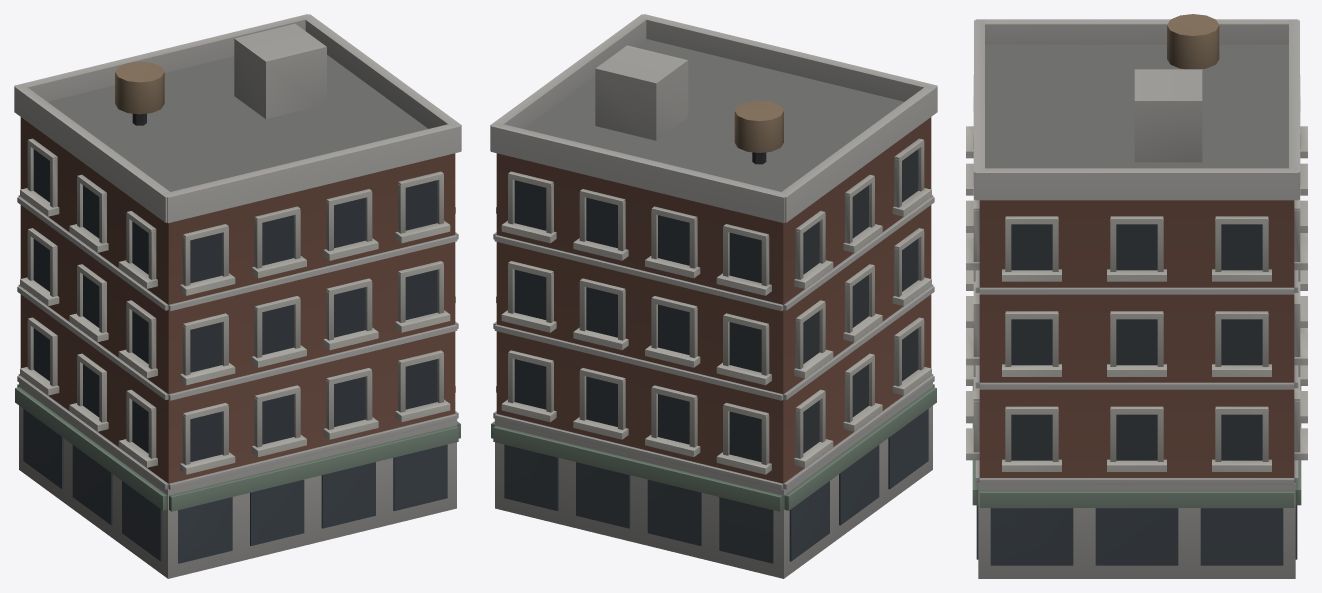
Rendered from house_modern_3.glb.
3 views of the same model, side by side, from view 1: azimuth 30°, elevation 25°; view 2: azimuth 150°, elevation 25°; view 3: azimuth 270°, elevation 25° (orthographic). The views are drawn at different scales.
Visible parts, largest first — view 1: Body_Detail; view 2: Body_Detail; view 3: Body_Detail.
Boxes of the visible parts, x1,y1,x2,y2 form: Body_Detail: [14, 14, 461, 578]; Body_Detail: [490, 14, 937, 578]; Body_Detail: [966, 14, 1307, 578].
Size of the model in its own units: 1.01 by 1.32 by 0.912.
